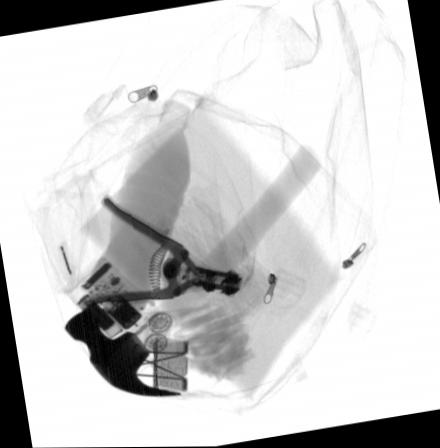Hammer: (62, 146, 322, 395)
Pliers: (83, 199, 241, 309)
